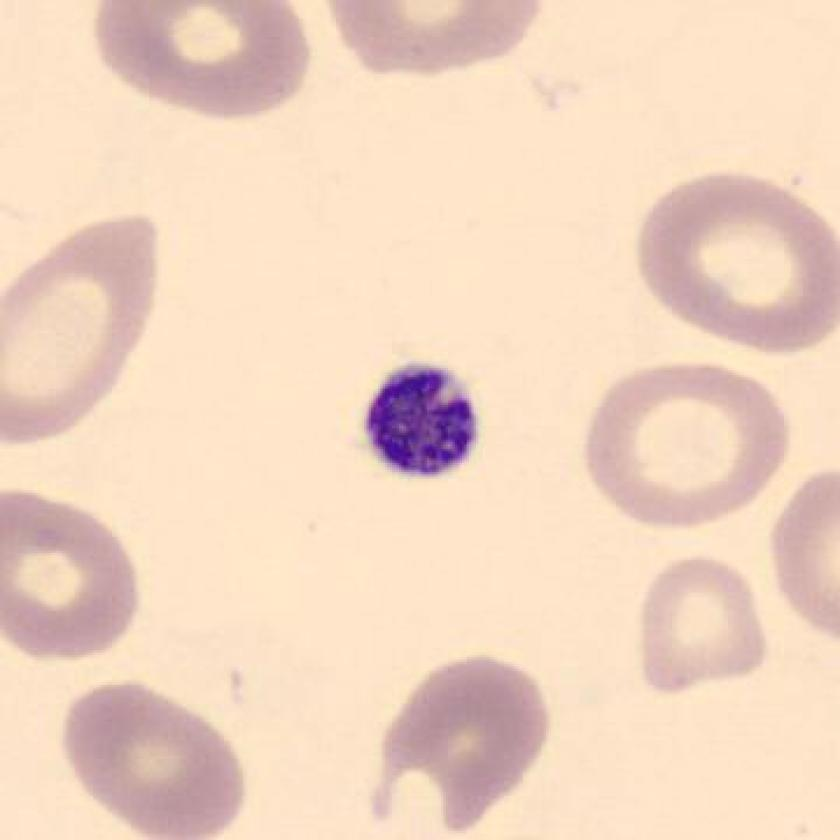platelets: (349, 348, 496, 489)
